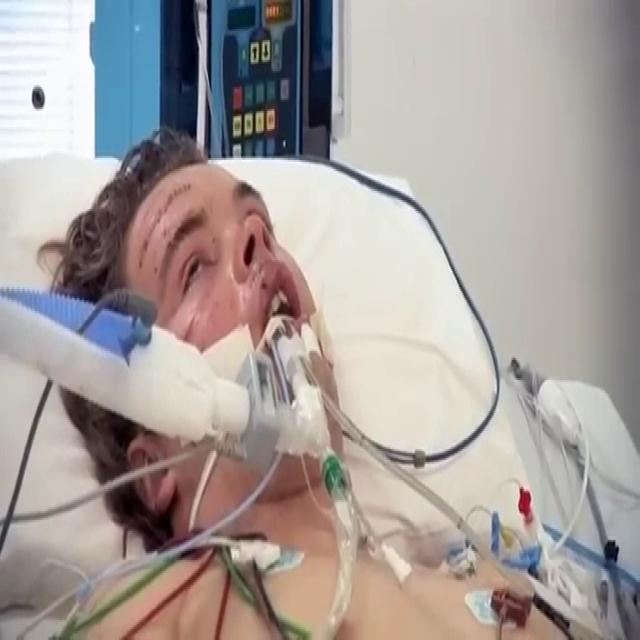monitor: (159, 0, 341, 160)
patient: (30, 124, 635, 638)
